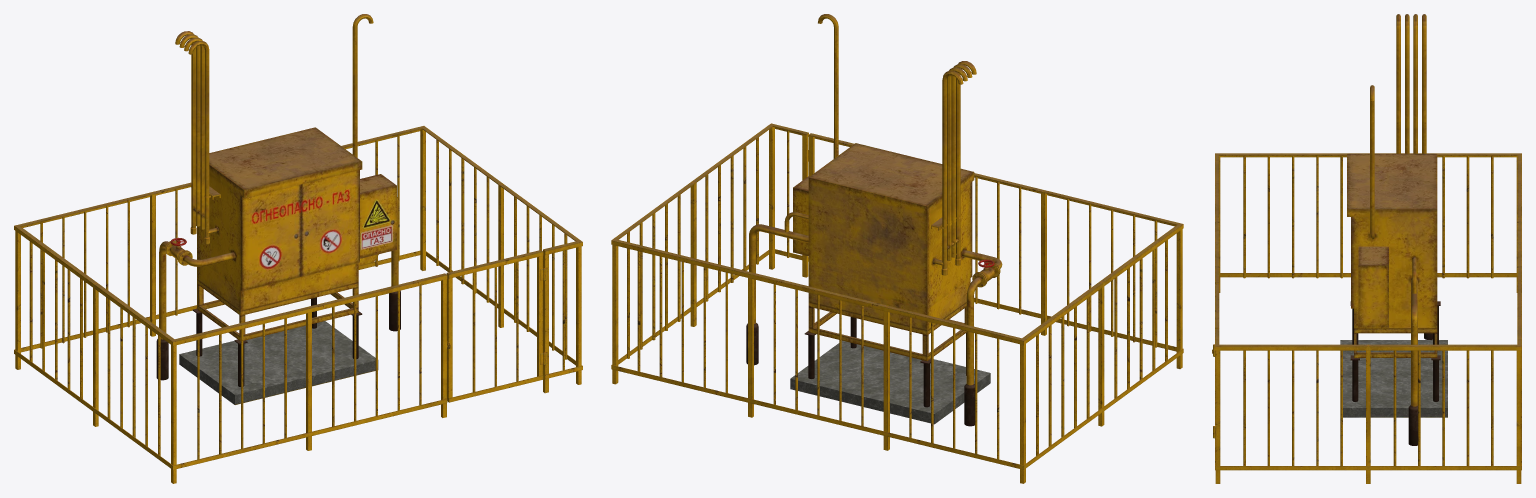
Rendered from gasstation.glb.
3 renders of one model, left to right at view 1: azimuth 30°, elevation 25°; view 2: azimuth 150°, elevation 25°; view 3: azimuth 270°, elevation 25°, orthographic. The views are drawn at different scales.
Visible parts, largest first — view 1: Cube.036, Cube.009, Cube.026; view 2: Cube.036, Cube.009; view 3: Cube.036, Cube.009.
Part boxes in pixels (x1=…): Cube.036: x1=156, y1=14, x2=400, y2=404; Cube.009: x1=14, y1=126, x2=582, y2=483; Cube.026: x1=446, y1=250, x2=545, y2=402; Cube.036: x1=746, y1=14, x2=1002, y2=426; Cube.009: x1=611, y1=123, x2=1183, y2=483; Cube.036: x1=1340, y1=14, x2=1447, y2=445; Cube.009: x1=1212, y1=153, x2=1521, y2=483.
Bounding box in the file's own units: 6.53 × 5.24 × 4.42.
Materials: 2 (2 with a texture image).
